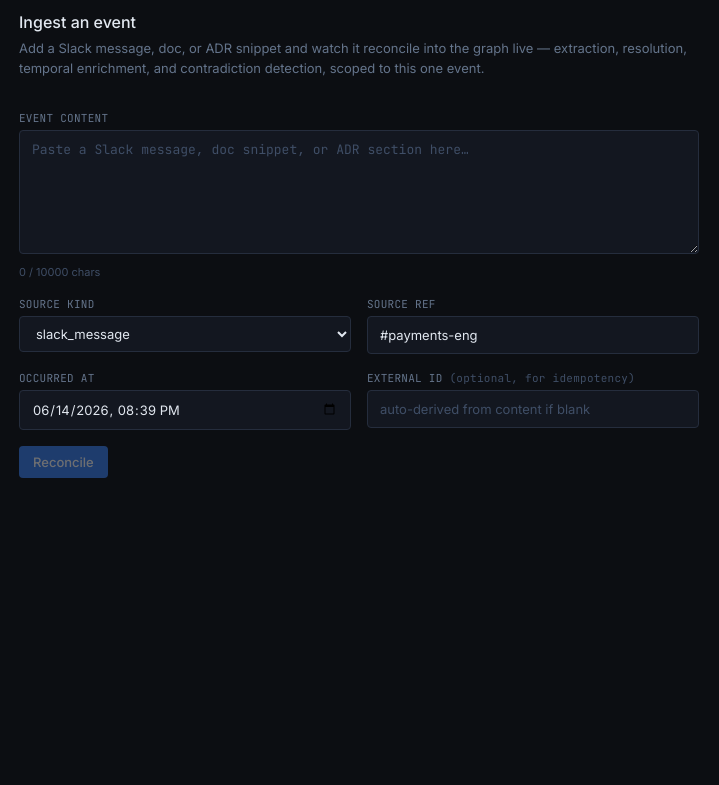
Test case: Ingest page › renders the deduplicated banner
Type "welcome aboard Nadia Okafor, joining as a Software Engineer" into the text box labelled "Event content". click: (359, 192)
box: [19,130,699,254]
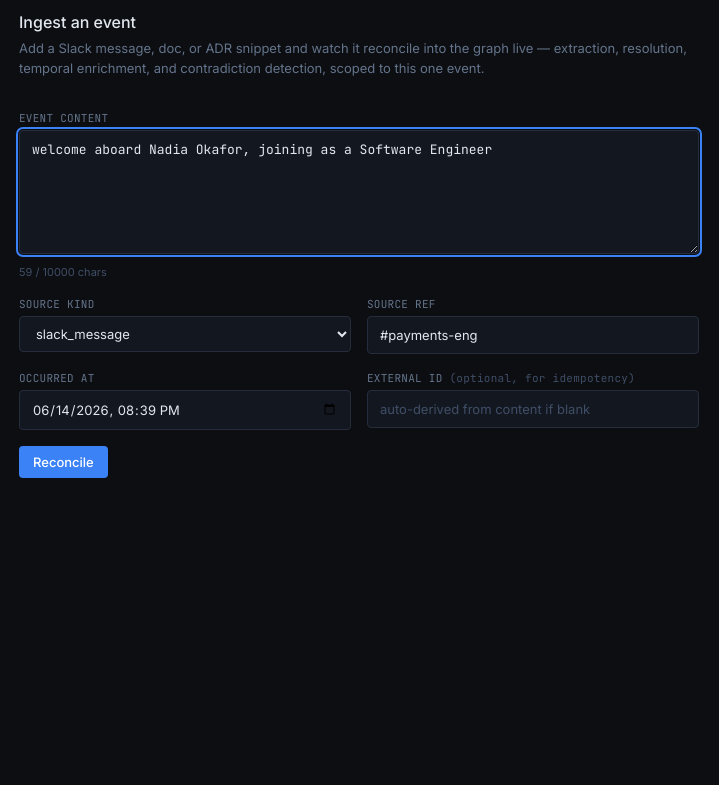
Click the button "Reconcile". click: (63, 462)
box: [19,446,108,478]
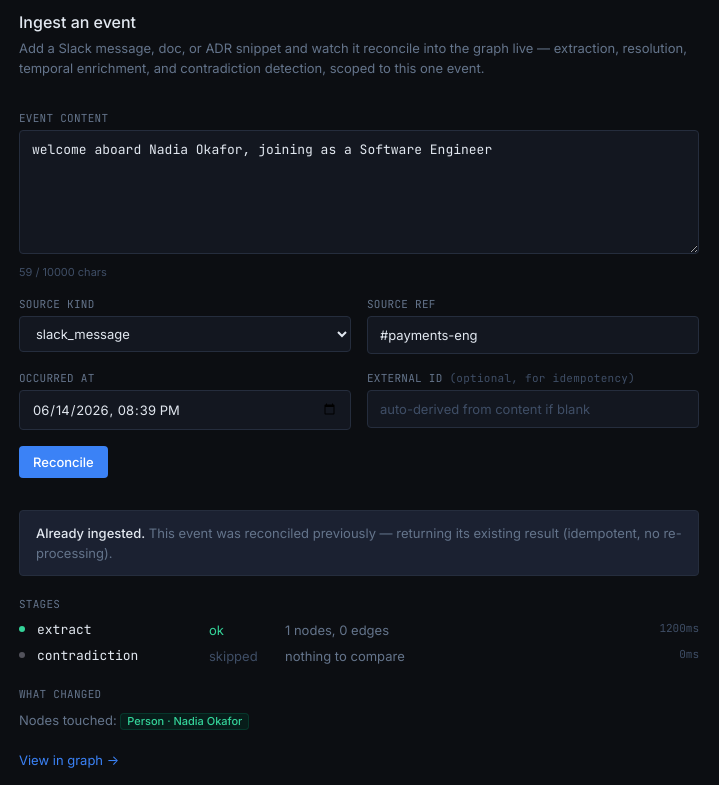
Result: the text "Already ingested." is shown at [36,525,145,541]
